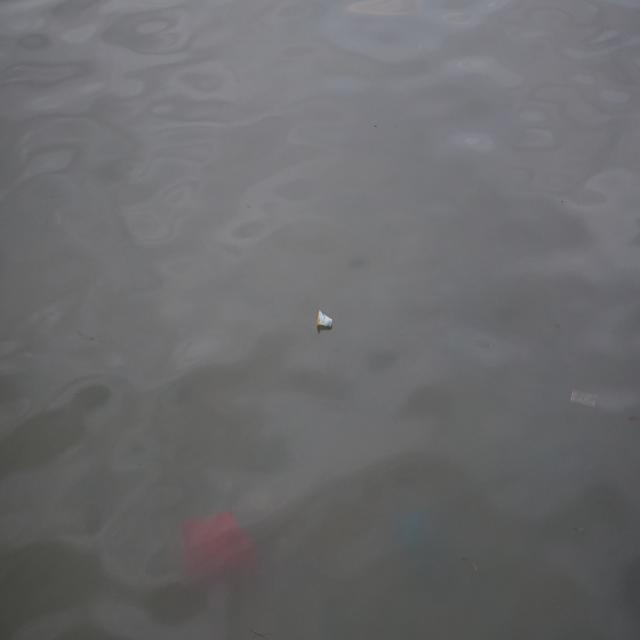Bungkus Minuman: (314, 305, 338, 336)
Kantong Plastik: (180, 501, 263, 594)
